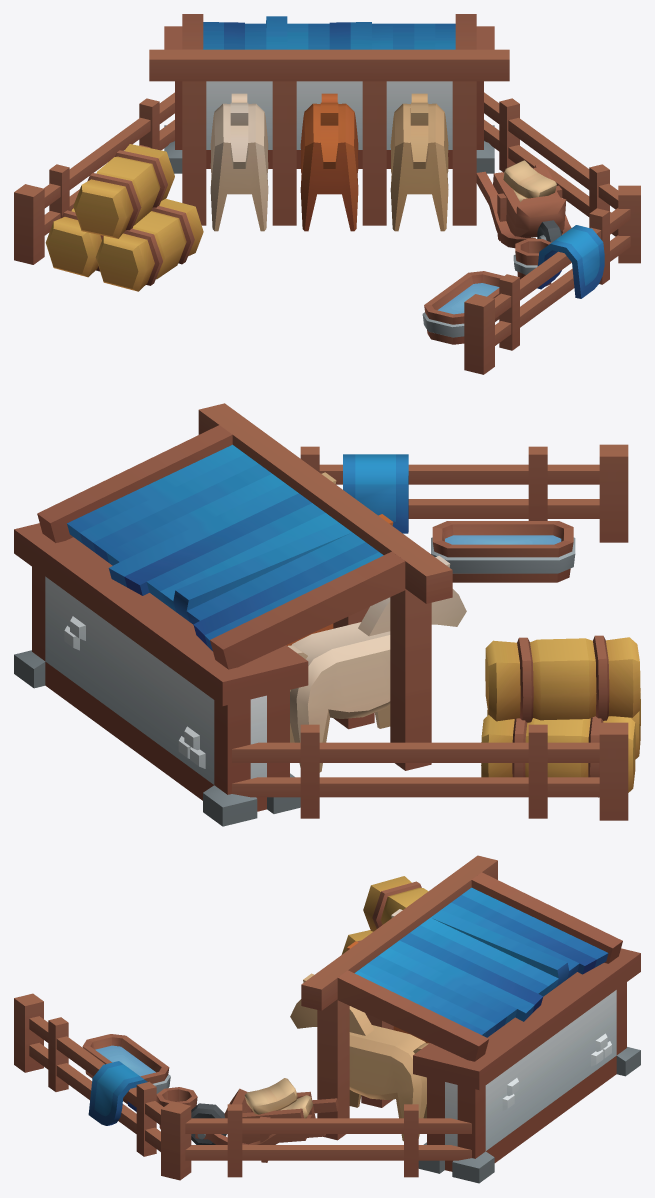
The model's file is hexb_stables.glb.
3 views of the same model, one above another, from view 1: azimuth 30°, elevation 25°; view 2: azimuth 150°, elevation 25°; view 3: azimuth 270°, elevation 25° (orthographic). The views are drawn at different scales.
Parts seen in each view (by area): view 1: building_stables_blue; view 2: building_stables_blue; view 3: building_stables_blue.
Part boxes in pixels (x1,y1,x2,y2): building_stables_blue: (14,14,640,374); building_stables_blue: (14,403,640,826); building_stables_blue: (14,855,640,1183).
Bounding box in the file's own units: 1.86 × 0.6116 × 2.13.
1 material, 1 textured.
